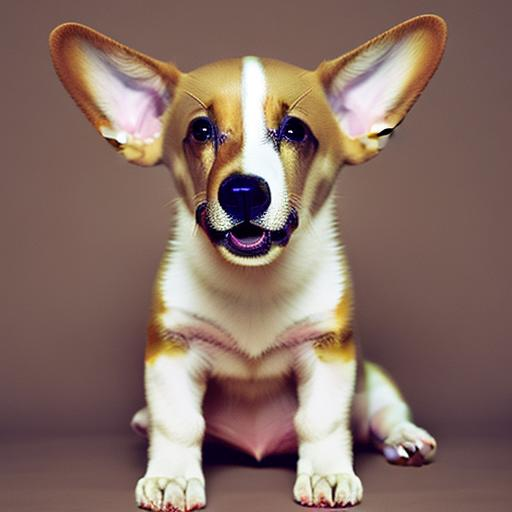eye: (277, 114, 323, 150), (181, 111, 221, 145)
